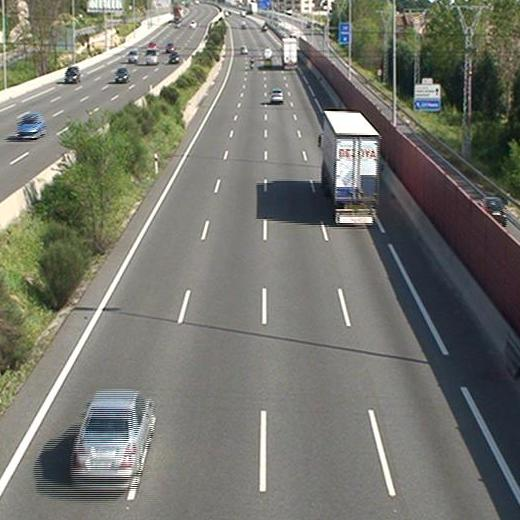car: (69, 393, 146, 492), (269, 89, 284, 103)
motorcycle: (248, 54, 255, 72)
truck: (319, 113, 382, 224), (281, 37, 297, 69)
van: (263, 48, 271, 59)
